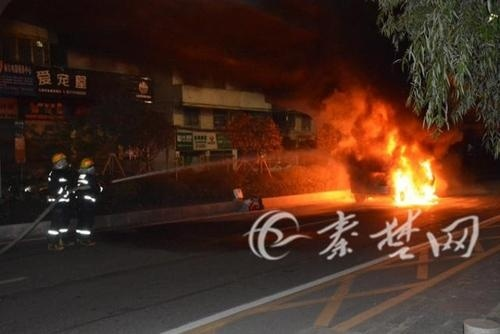fire: (378, 136, 443, 207)
